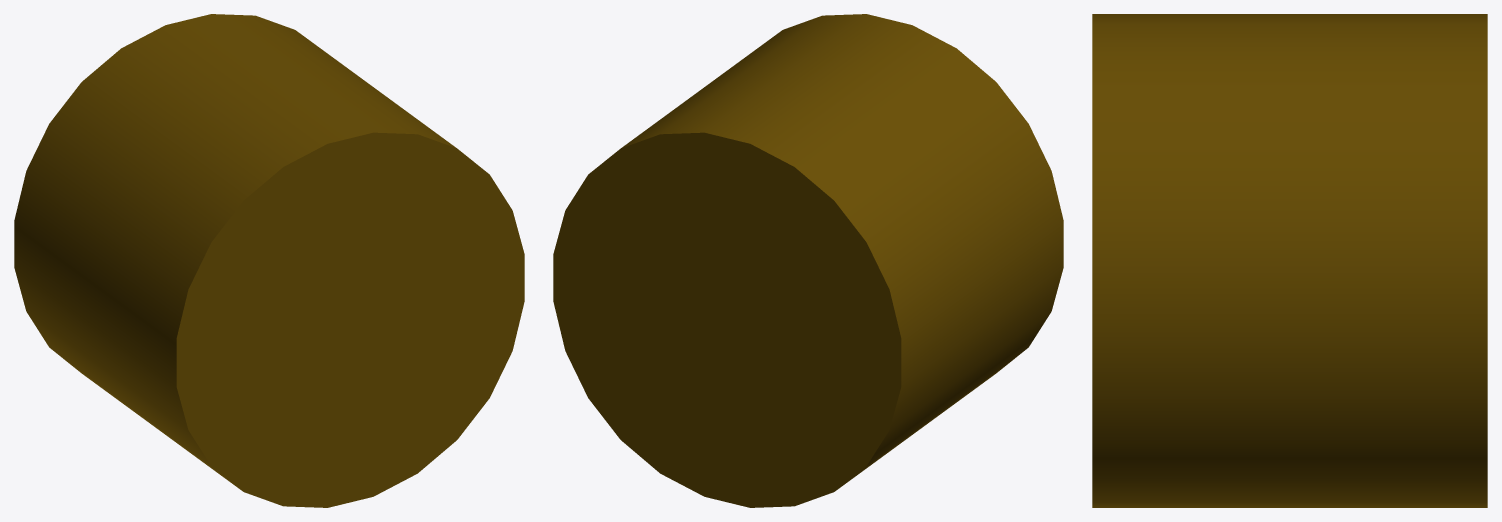
The model's file is original-3.obj.
3 views of the same model, side by side, from view 1: azimuth 30°, elevation 25°; view 2: azimuth 150°, elevation 25°; view 3: azimuth 270°, elevation 25° (orthographic). The views are drawn at different scales.
Visible parts, largest first — view 1: mesh3/mesh3-geometry#mesh3-geometry; view 2: mesh3/mesh3-geometry#mesh3-geometry; view 3: mesh3/mesh3-geometry#mesh3-geometry.
Boxes of the visible parts, x1=… form: mesh3/mesh3-geometry#mesh3-geometry: x1=14, y1=14, x2=524, y2=507; mesh3/mesh3-geometry#mesh3-geometry: x1=553, y1=14, x2=1063, y2=507; mesh3/mesh3-geometry#mesh3-geometry: x1=1092, y1=14, x2=1487, y2=507.
Size of the model in its own units: 0.0411 by 0.0411 by 0.0332.
